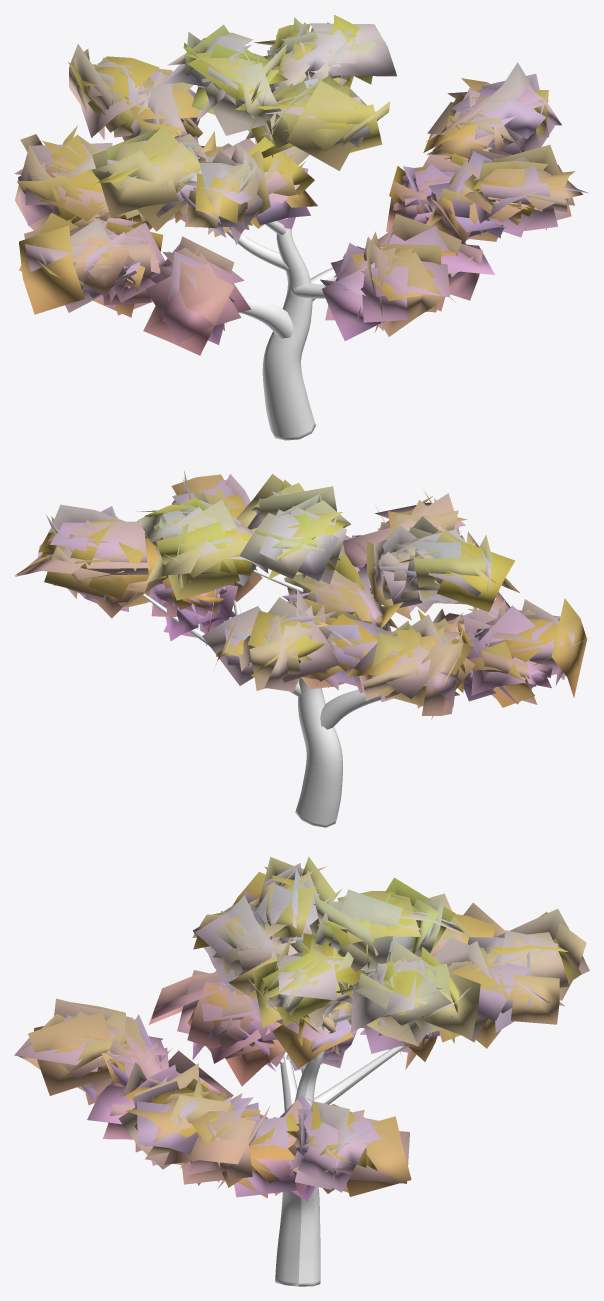
The model's file is live-oak-v1.glb.
The picture shows the model from 3 angles, top to bottom: view 1: azimuth 30°, elevation 25°; view 2: azimuth 150°, elevation 25°; view 3: azimuth 270°, elevation 25°; orthographic projection. The views are drawn at different scales.
Parts seen in each view (by area): view 1: Leaves, Trunk; view 2: Leaves, Trunk; view 3: Leaves, Trunk.
Part boxes in pixels (x1,y1,x2,y2): Leaves: (14, 14, 588, 355); Trunk: (226, 214, 336, 440); Leaves: (15, 470, 587, 719); Trunk: (142, 569, 381, 827); Leaves: (14, 857, 589, 1201); Trunk: (275, 1013, 405, 1286).
Size of the model in its own units: 10.46 by 6.76 by 9.19.
